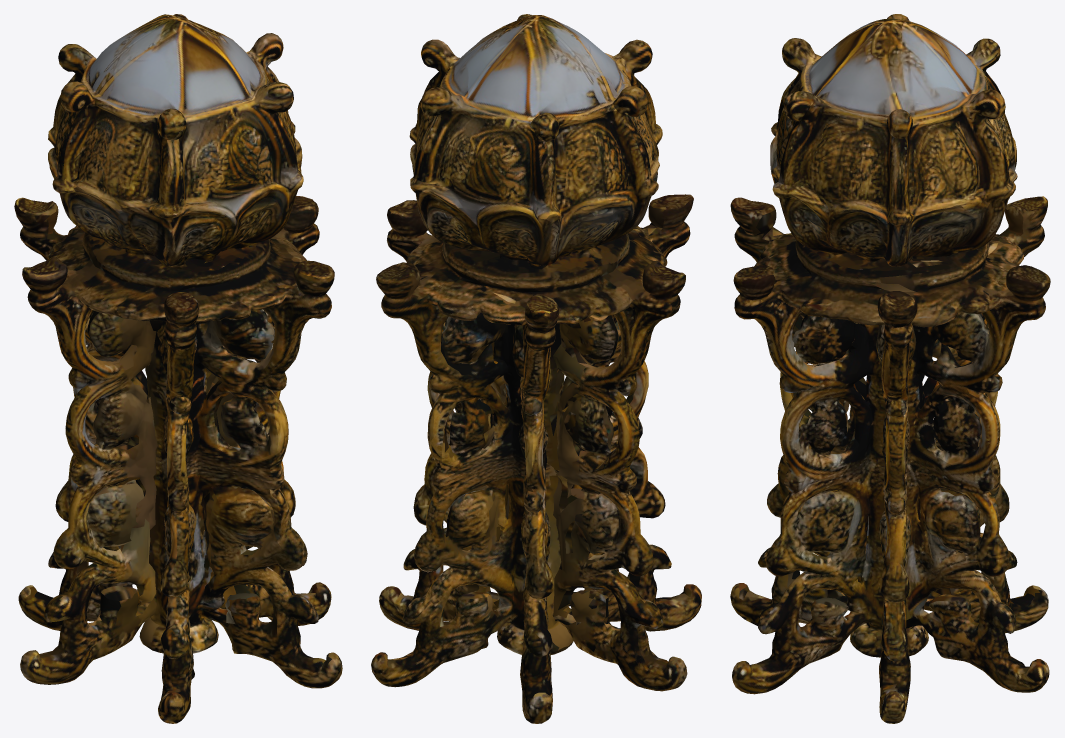
The picture shows the model from 3 angles, left to right: view 1: azimuth 30°, elevation 25°; view 2: azimuth 150°, elevation 25°; view 3: azimuth 270°, elevation 25°; orthographic projection.
Visible parts, largest first — view 1: textured_mesh; view 2: textured_mesh; view 3: textured_mesh.
Boxes of the visible parts, left/top/right/bottom form: textured_mesh: left=14, top=14, right=342, bottom=723; textured_mesh: left=371, top=14, right=701, bottom=723; textured_mesh: left=730, top=14, right=1050, bottom=723.
Size of the model in its own units: 1 by 1.99 by 0.9065.
Materials: 1 (1 with a texture image).
